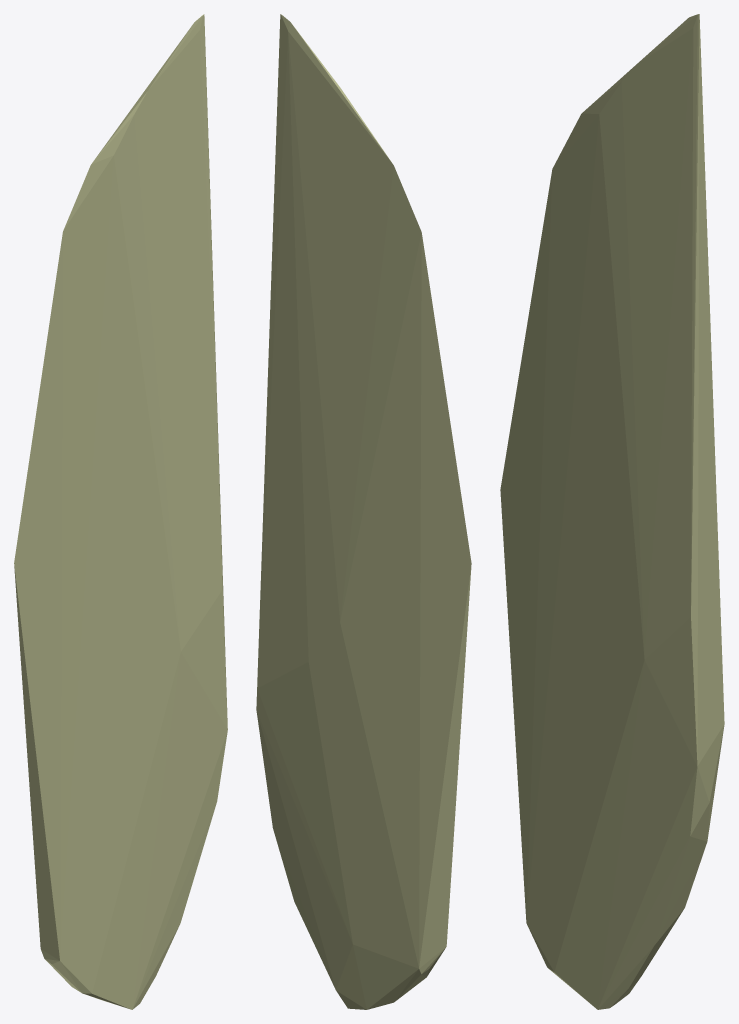
Rendered from kitchenware_knife_s01.glb.
3 renders of one model, left to right at view 1: azimuth 30°, elevation 25°; view 2: azimuth 150°, elevation 25°; view 3: azimuth 330°, elevation 25°, orthographic. The views are drawn at different scales.
Visible parts, largest first — view 1: geometry_0; view 2: geometry_0; view 3: geometry_0.
Part boxes in pixels (box(x1,y1,x2,y2)): geometry_0: box(14, 14, 227, 1009); geometry_0: box(256, 14, 471, 1009); geometry_0: box(500, 14, 724, 1009).
Size of the model in its own units: 0.1044 by 0.4788 by 0.0262.
